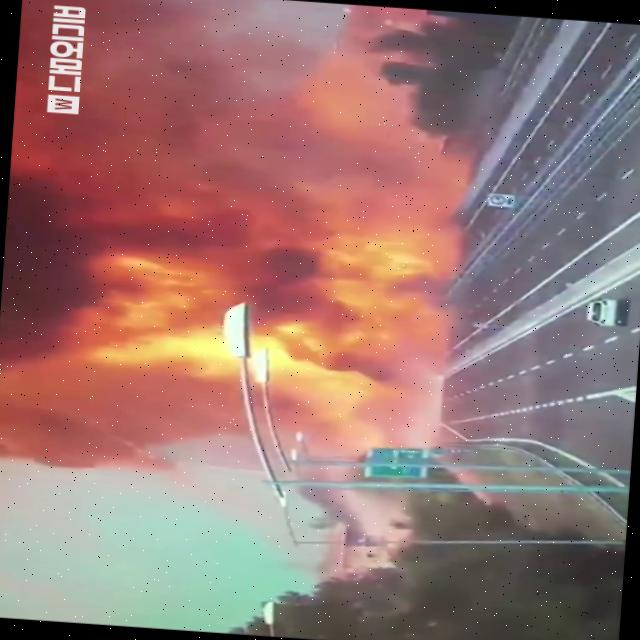explosion: (0, 0, 518, 537)
